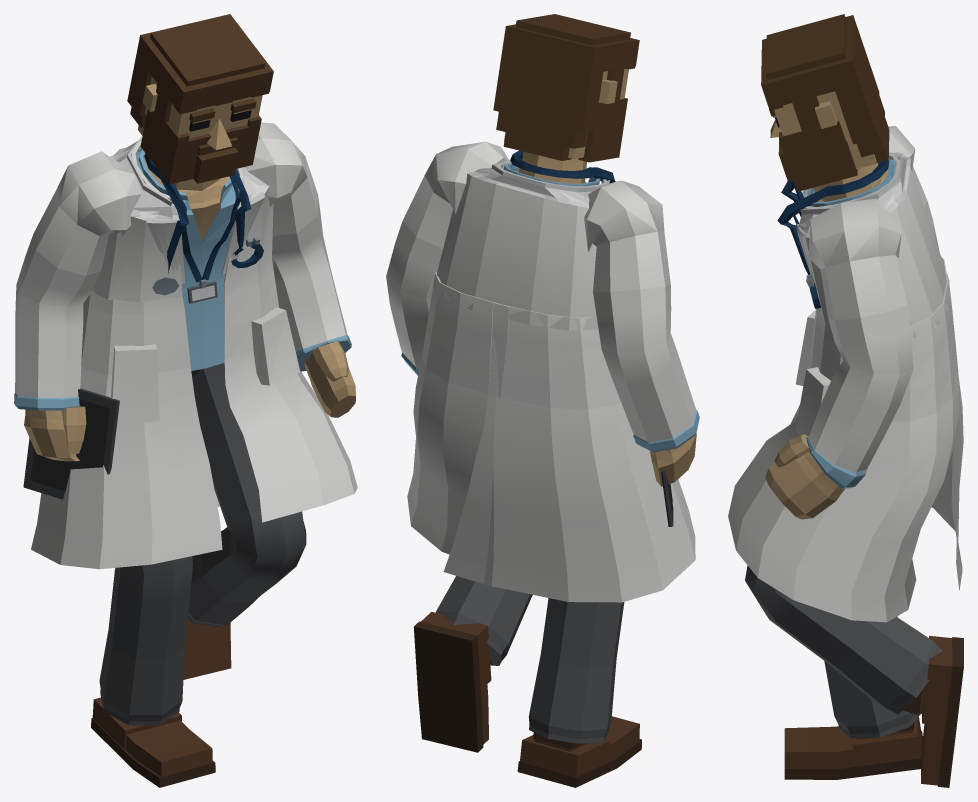
Rendered from doctor-d49de0__walk6.glb.
The picture shows the model from 3 angles, left to right: view 1: azimuth 30°, elevation 25°; view 2: azimuth 150°, elevation 25°; view 3: azimuth 270°, elevation 25°; orthographic projection. The views are drawn at different scales.
Parts seen in each view (by area): view 1: doctor-d49de0__walk6; view 2: doctor-d49de0__walk6; view 3: doctor-d49de0__walk6.
Part boxes in pixels (x1,y1,x2,y2): doctor-d49de0__walk6: [14, 14, 357, 787]; doctor-d49de0__walk6: [386, 14, 699, 787]; doctor-d49de0__walk6: [728, 14, 963, 787].
Size of the model in its own units: 0.7721 by 1.72 by 0.4921.
